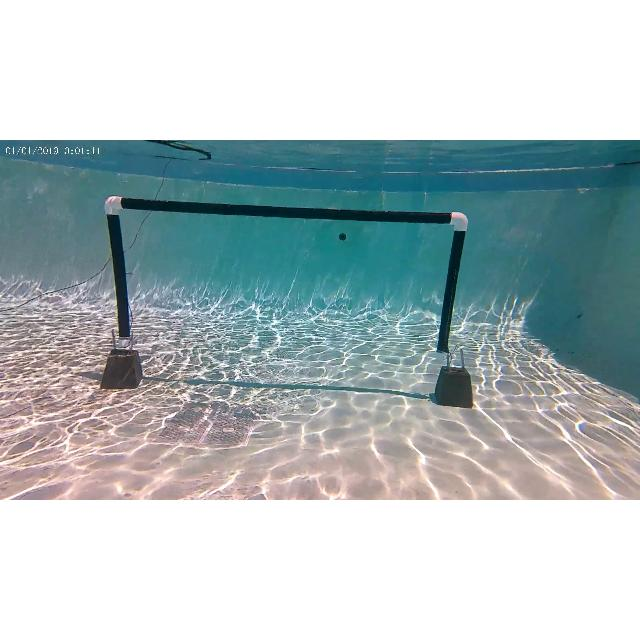prequal gate: (105, 195, 465, 348)
prequal gate leg l: (103, 194, 145, 390)
prequal gate leg r: (440, 206, 476, 408)
